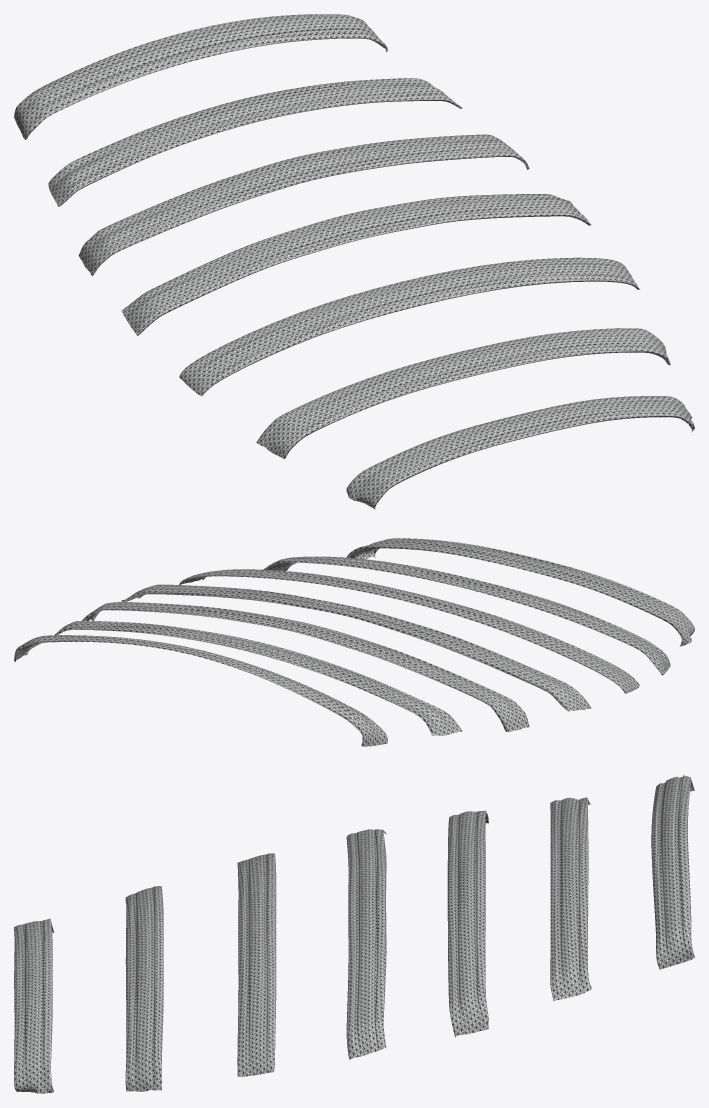
The model's file is 363_Ribs-e8640cec.glb.
The picture shows the model from 3 angles, top to bottom: view 1: azimuth 30°, elevation 25°; view 2: azimuth 150°, elevation 25°; view 3: azimuth 270°, elevation 25°; orthographic projection.
Visible parts, largest first — view 1: Ribs; view 2: Ribs; view 3: Ribs.
Boxes of the visible parts, box(x1,y1,x2,y2) form: Ribs: box(14, 14, 694, 509); Ribs: box(14, 538, 694, 746); Ribs: box(14, 775, 694, 1093).
Bounding box in the file's own units: 0.2651 × 0.1074 × 0.3496.
Materials: 7 (7 with a texture image).
